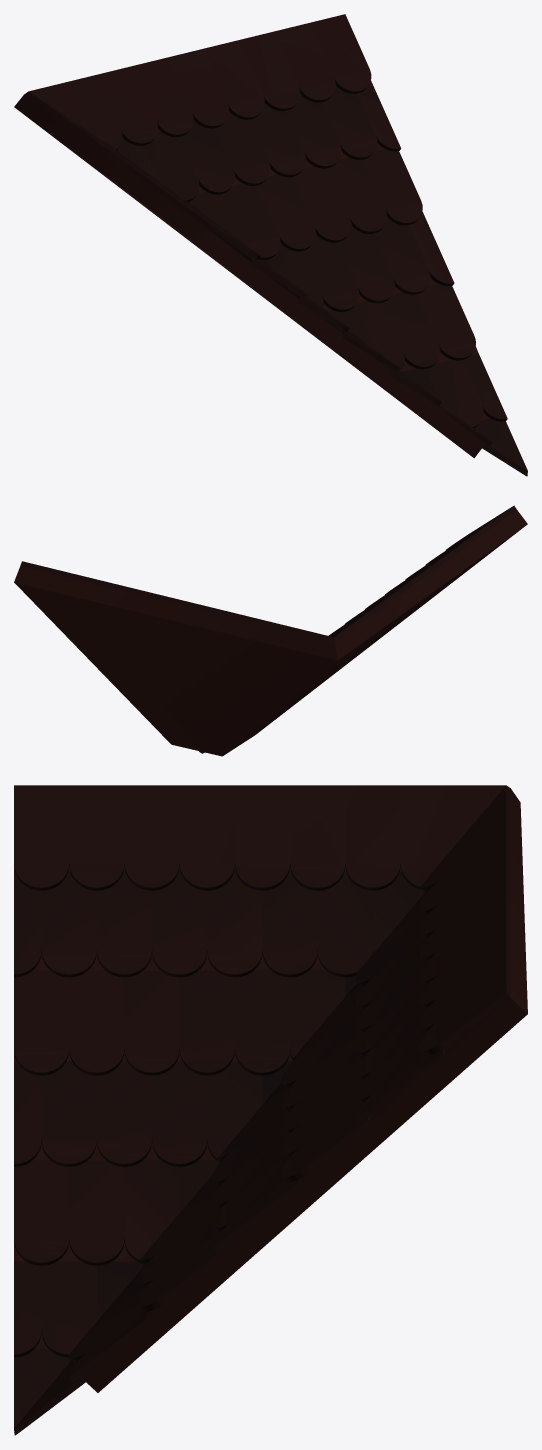
The model's file is Roof_Corner_Concave.fbx.
3 renders of one model, top to bottom at view 1: azimuth 30°, elevation 25°; view 2: azimuth 150°, elevation 25°; view 3: azimuth 270°, elevation 25°, orthographic. The views are drawn at different scales.
Parts seen in each view (by area): view 1: Roof_Corner_Concave; view 2: Roof_Corner_Concave; view 3: Roof_Corner_Concave.
Boxes of the visible parts, x1,y1,x2,y2 form: Roof_Corner_Concave: [14, 14, 527, 476]; Roof_Corner_Concave: [14, 505, 527, 756]; Roof_Corner_Concave: [14, 785, 527, 1435].
Size of the model in its own units: 103 by 98.38 by 103.
